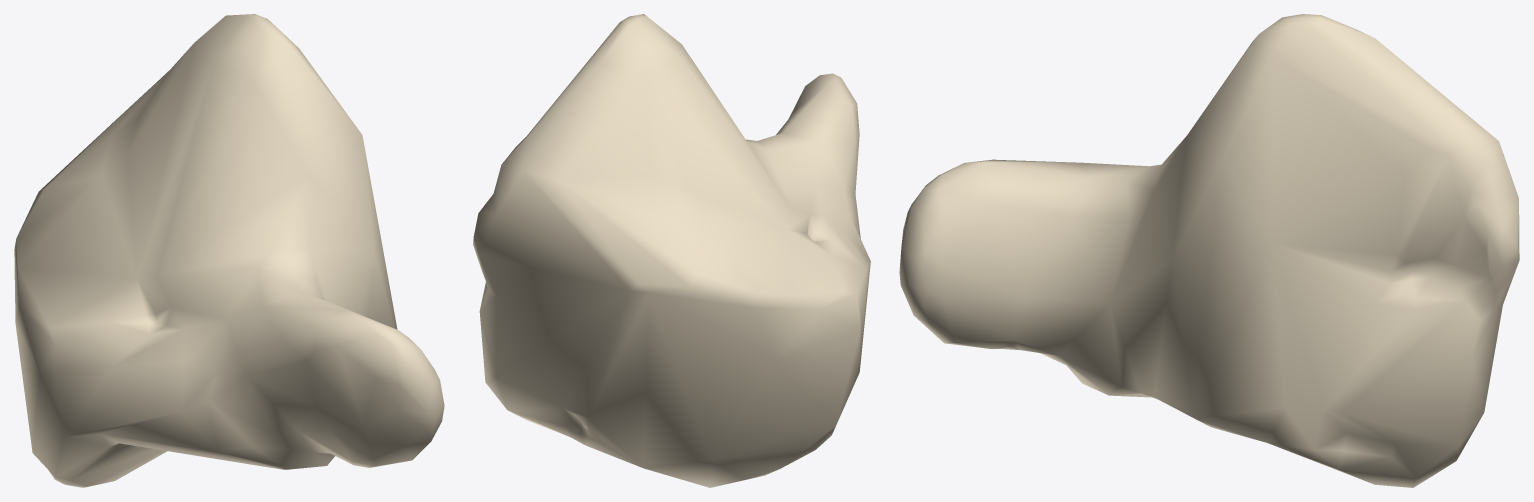
File: hamate-bone-l.glb
3 views of the same model, side by side, from view 1: azimuth 30°, elevation 25°; view 2: azimuth 150°, elevation 25°; view 3: azimuth 270°, elevation 25° (orthographic). The views are drawn at different scales.
Parts seen in each view (by area): view 1: Hamate bone.l; view 2: Hamate bone.l; view 3: Hamate bone.l.
Boxes of the visible parts, box(x1,y1,x2,y2) form: Hamate bone.l: box(14, 14, 444, 487); Hamate bone.l: box(473, 14, 870, 487); Hamate bone.l: box(899, 14, 1519, 487).
Size of the model in its own units: 0.0161 by 0.0202 by 0.0234.
